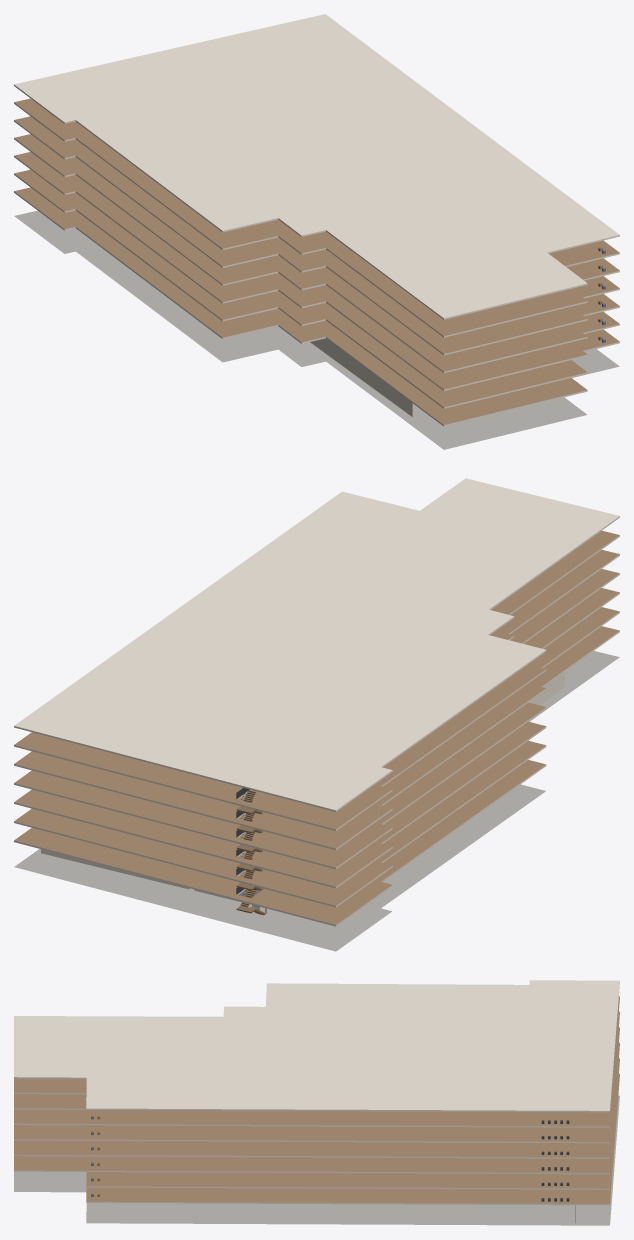
The model's file is interior.glb.
3 views of the same model, one above another, from view 1: azimuth 30°, elevation 25°; view 2: azimuth 150°, elevation 25°; view 3: azimuth 270°, elevation 25° (orthographic). The views are drawn at different scales.
Parts seen in each view (by area): view 1: slabs, partitions; view 2: slabs, stair, partitions; view 3: slabs.
Boxes of the visible parts, box(x1,y1,x2,y2) form: slabs: box(14, 14, 619, 449); partitions: box(310, 338, 412, 416); slabs: box(14, 478, 619, 951); stair: box(236, 788, 265, 915); partitions: box(41, 672, 564, 913); slabs: box(14, 980, 619, 1225).
Size of the model in its own units: 54.13 by 22.2 by 106.
